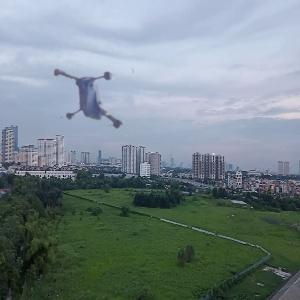drone: (55, 55, 151, 151)
